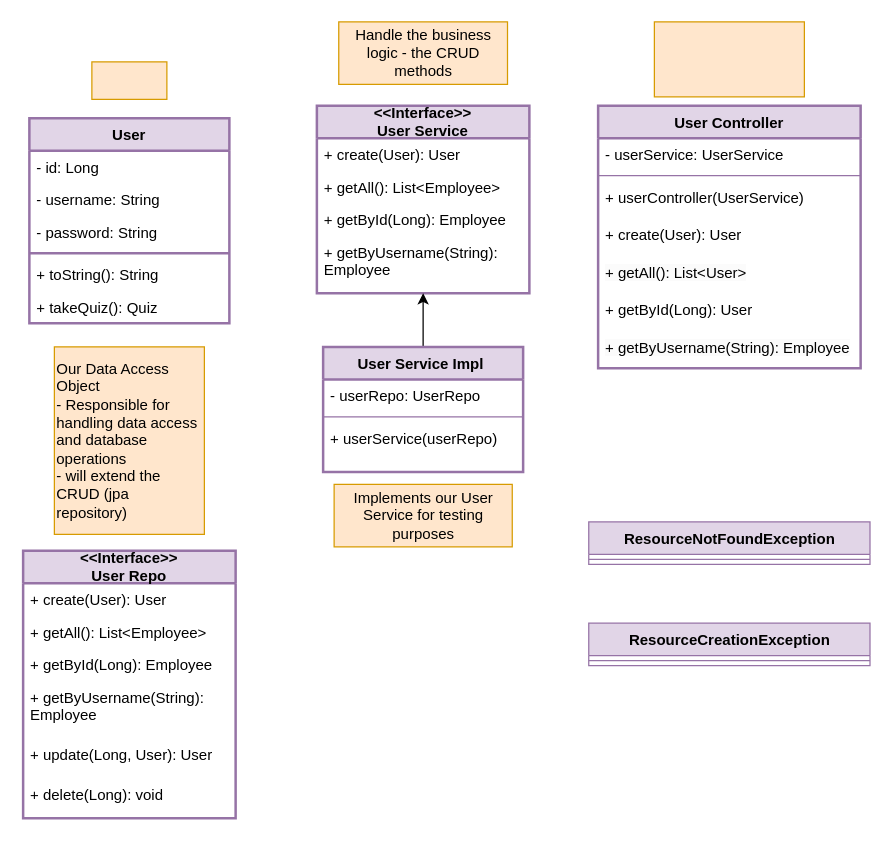
This 891x844 diagram has some shape labels left out. Here are the shapes that lost their labels. From the top down, the centre of each, then its label:
At [728,59]: "Handles the external requests to and from the React app".
At [129,80]: "Our model".
